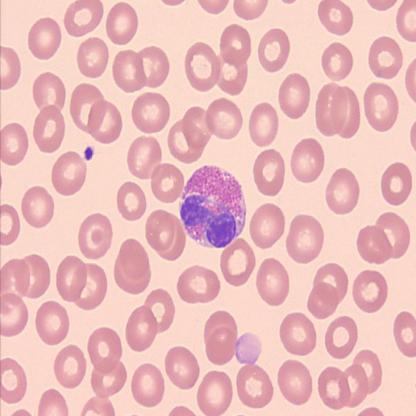Eosinophil: (179, 162, 246, 247)
